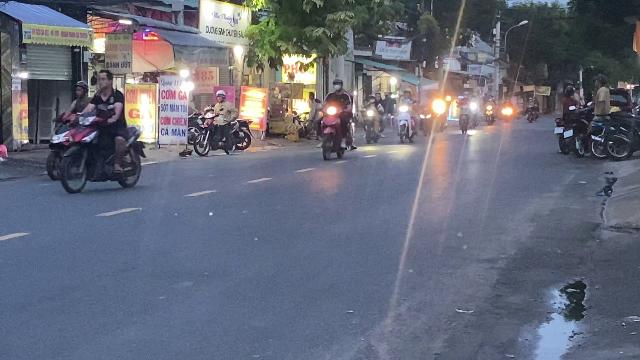helmet: (74, 80, 90, 98), (331, 78, 343, 90)
motorcyclist: (61, 68, 146, 196), (316, 77, 356, 161)
nohelmet: (96, 68, 114, 90)
